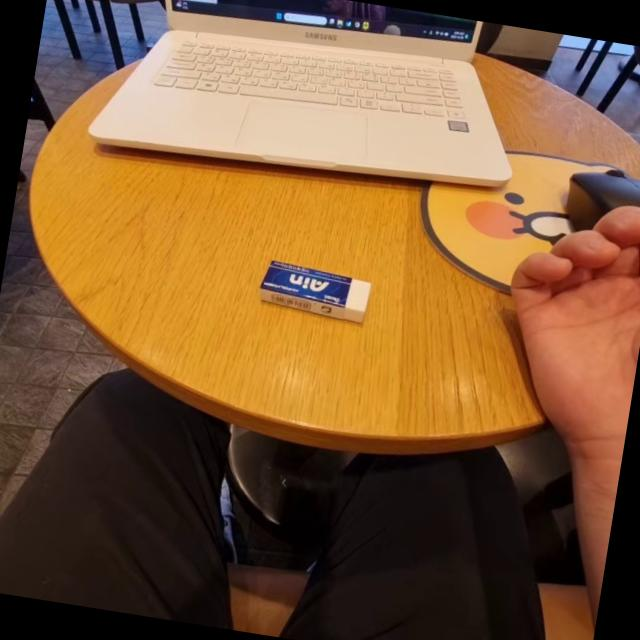eraser: (239, 248, 398, 345)
hand: (485, 201, 640, 452)
mouse: (563, 162, 640, 267)
